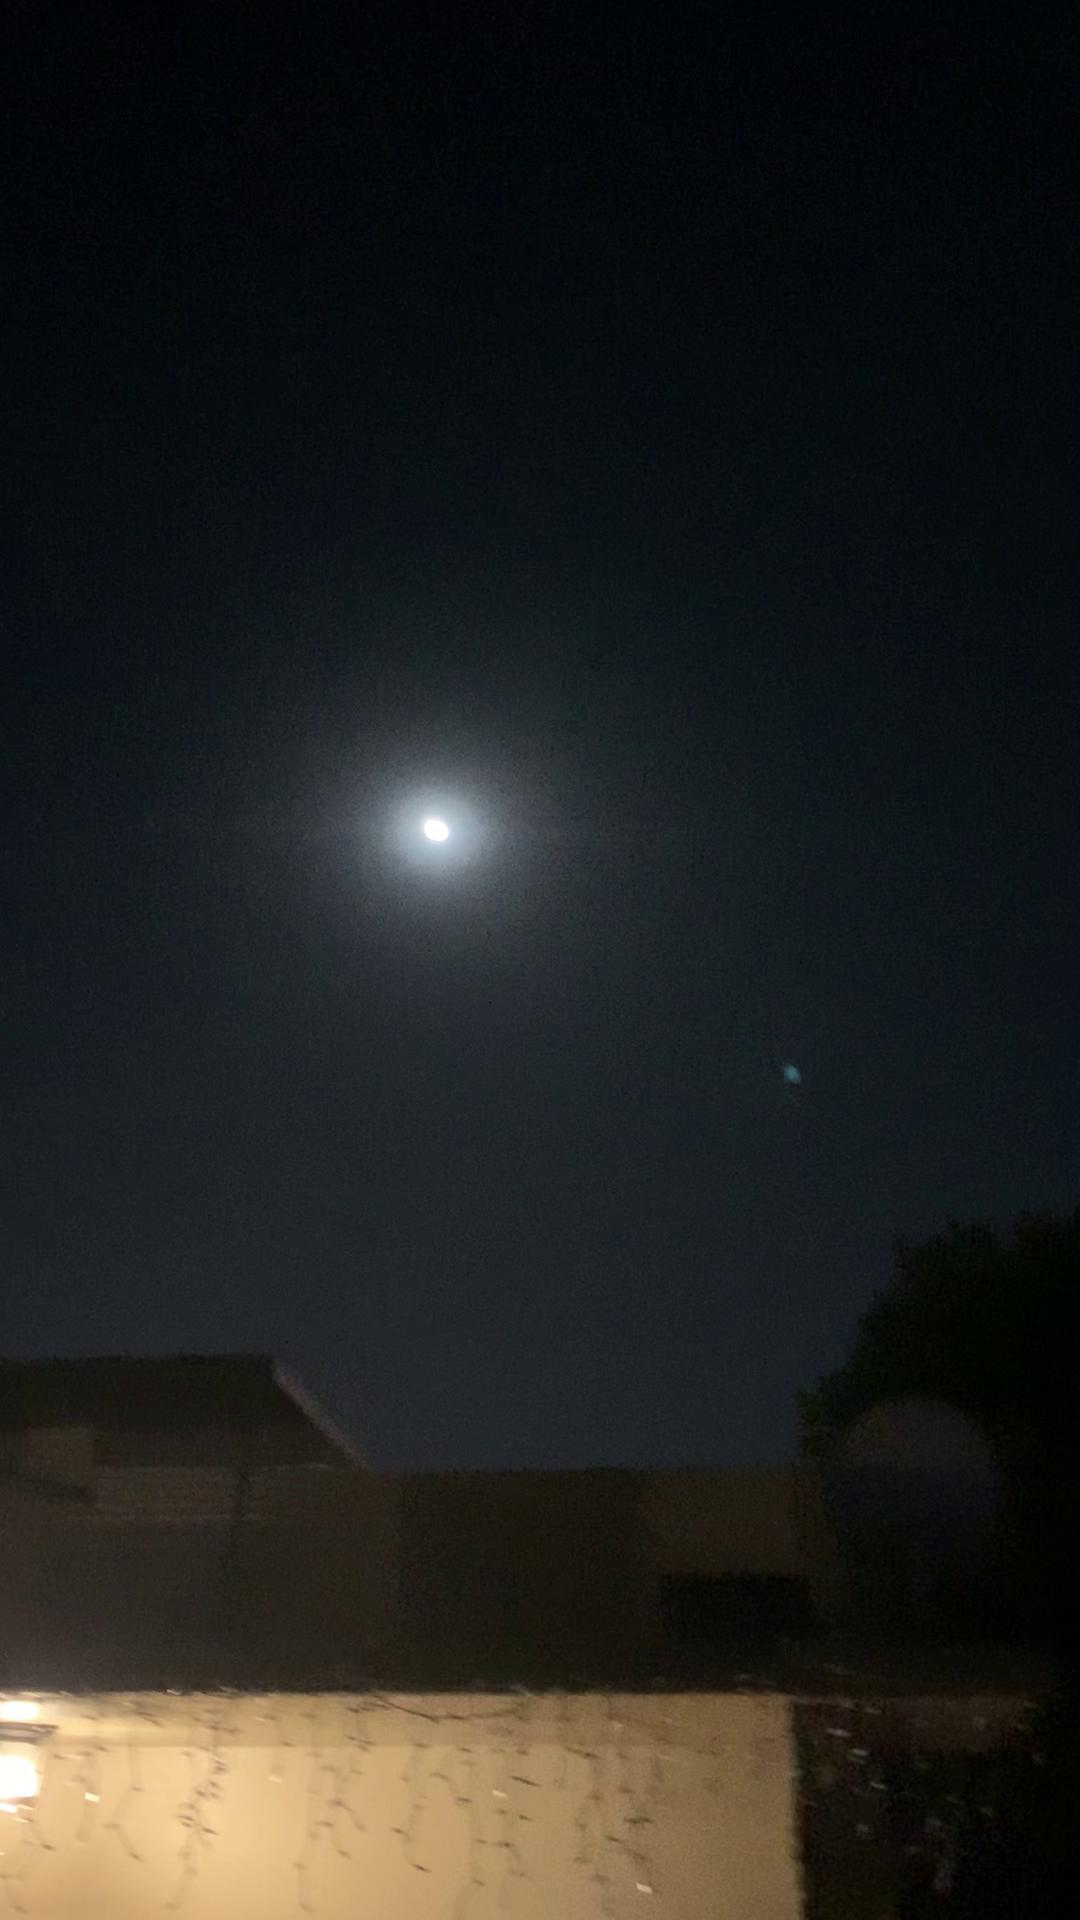moon: (386, 793, 473, 872)
